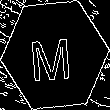M_N: (32, 27, 78, 83)
